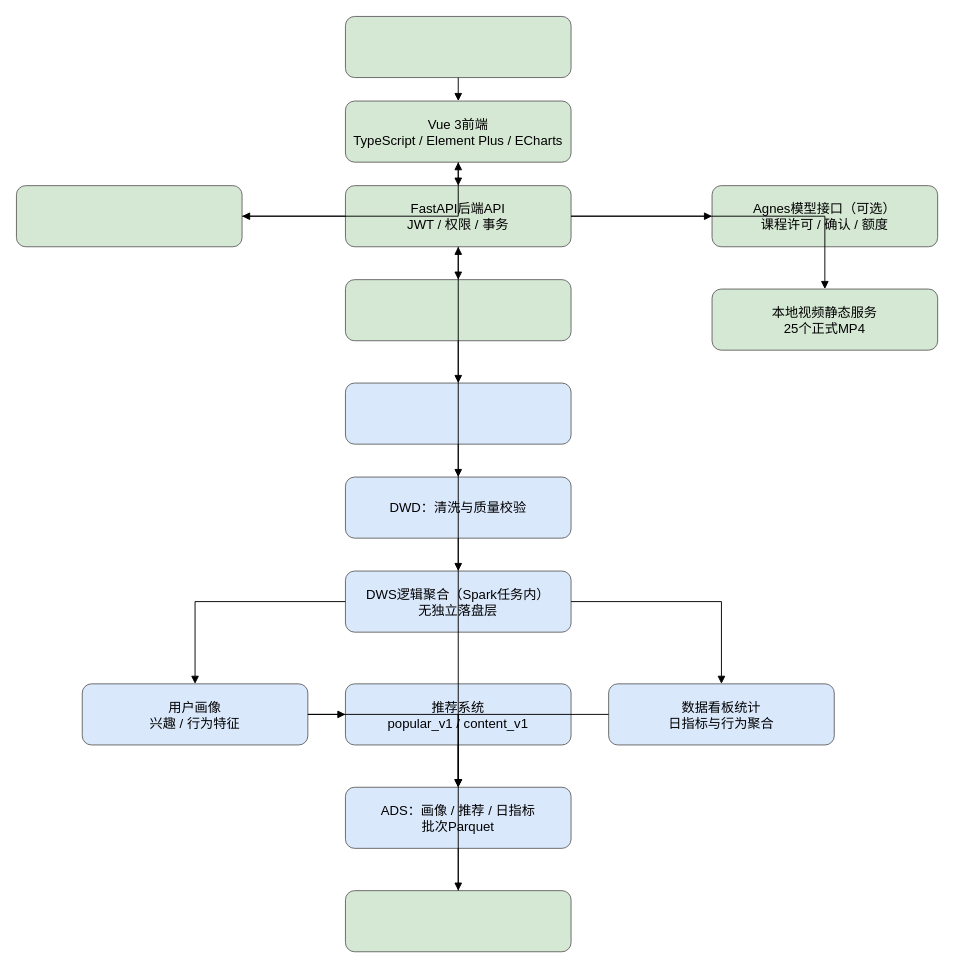
Image size: 954x968. Some labels were removed from this diagram. The shapes that lost their labels are listed below. From the top down, each one's box as (x1, y1, x2, y2) in pixels, then its label:
(345, 16, 571, 78): 学习者 / 管理员
(16, 185, 242, 247): 结果展示 画像 / 推荐 / 数据分析
(345, 279, 571, 341): MySQL业务数据库 用户 / 资源 / 行为 / 课程进度
(345, 382, 571, 444): ODS：一致性分析快照 Spark JDBC / Parquet
(345, 890, 571, 952): 校验与批次发布 MySQL结果表 + latest指针
